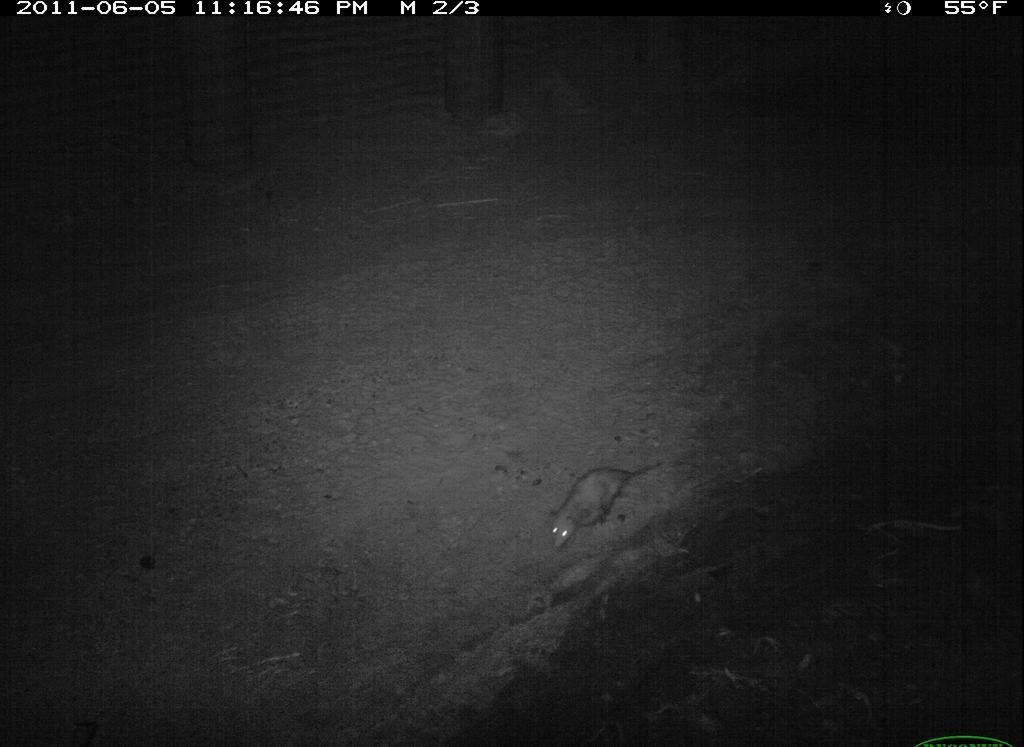opossum: (543, 450, 671, 556)
